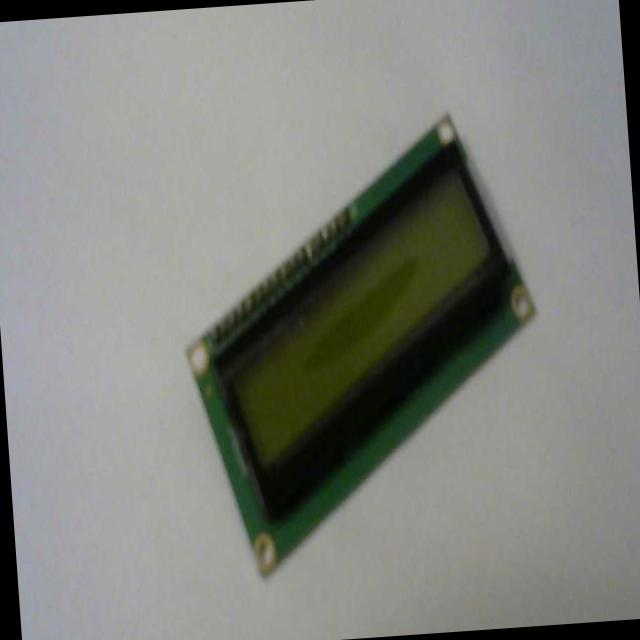lcd: (168, 104, 554, 580)
